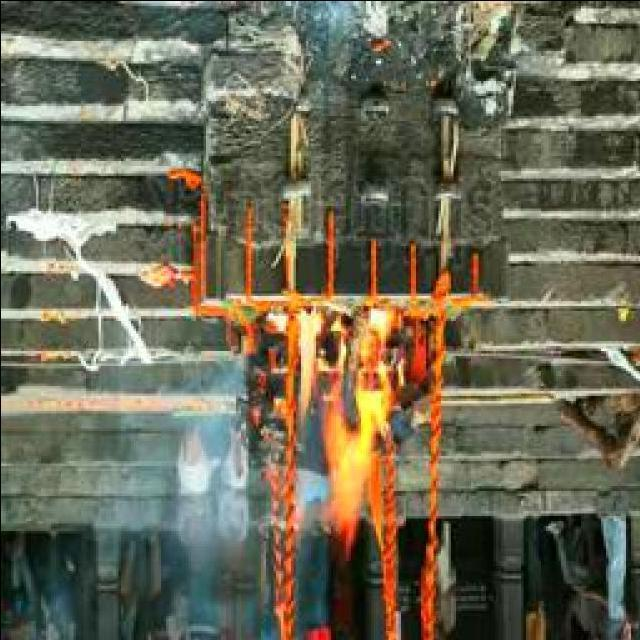Fire: (286, 306, 396, 536)
